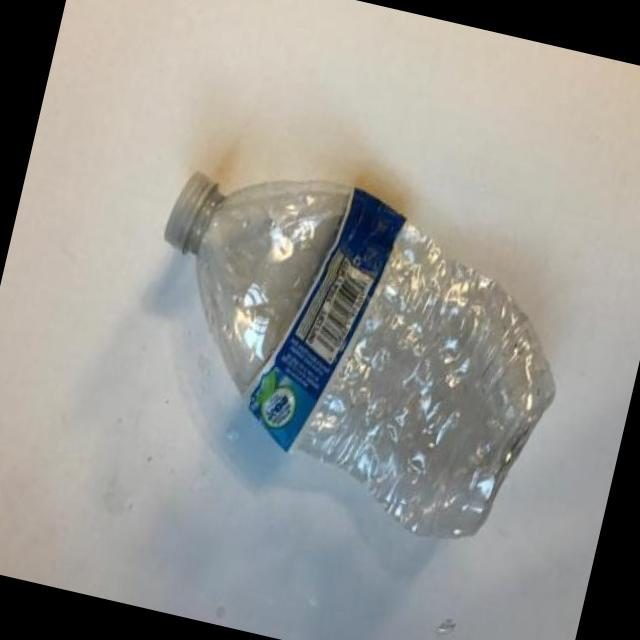plastic_bottle: (107, 148, 594, 569)
